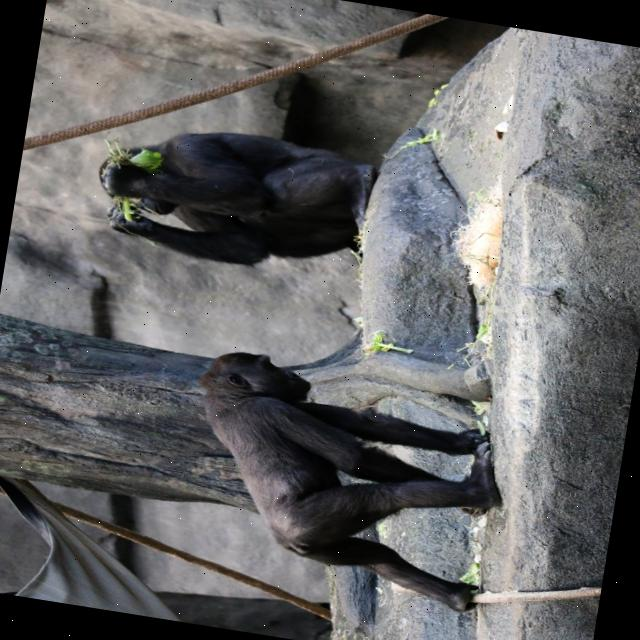Gorilla: (171, 345, 518, 616), (86, 110, 380, 284)
